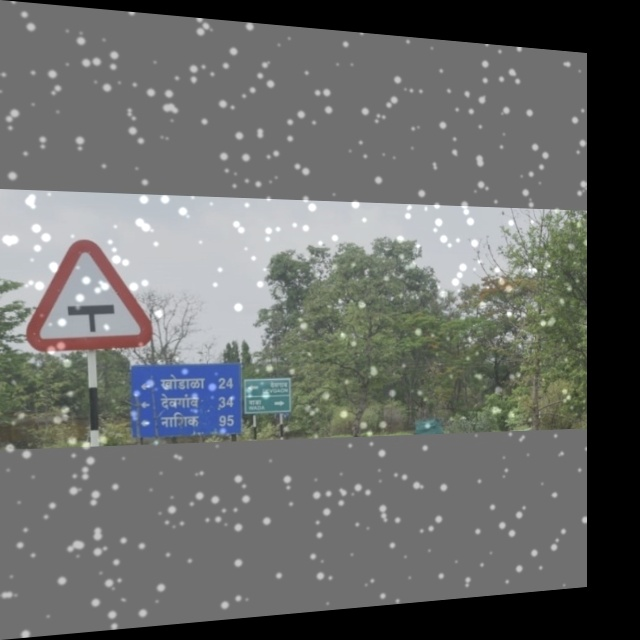T_Intersection: (24, 236, 158, 362)
